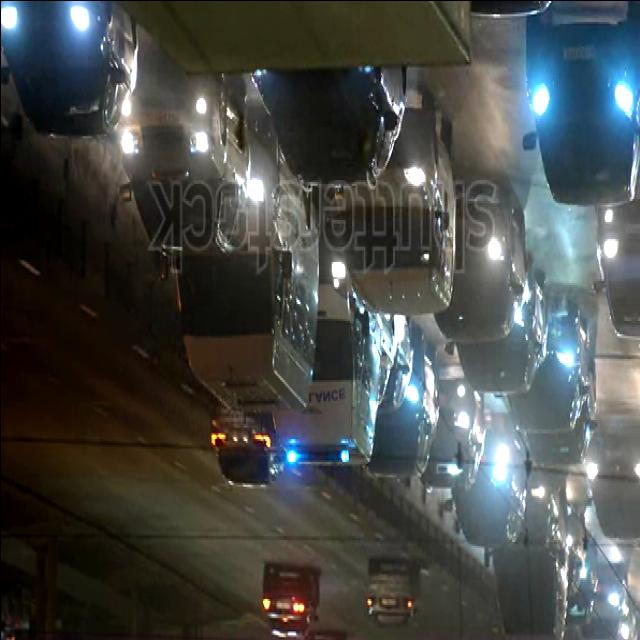ambulance: (268, 244, 381, 465)
